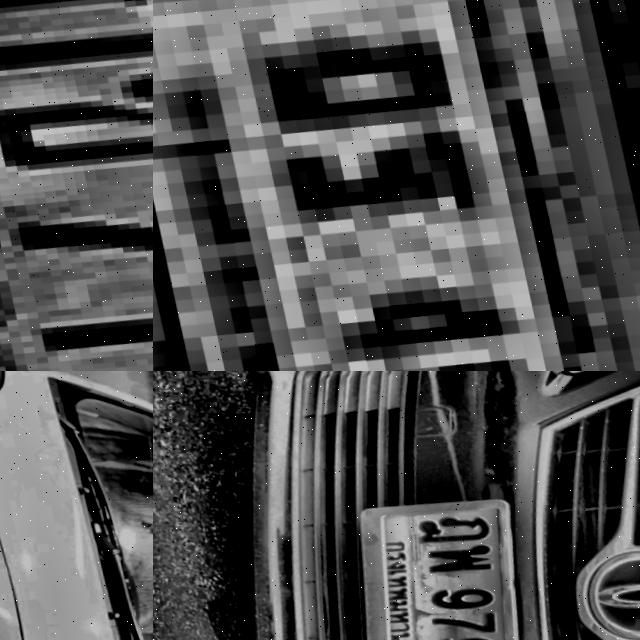license-plate: (153, 0, 627, 371), (0, 0, 153, 371), (318, 488, 545, 640)
